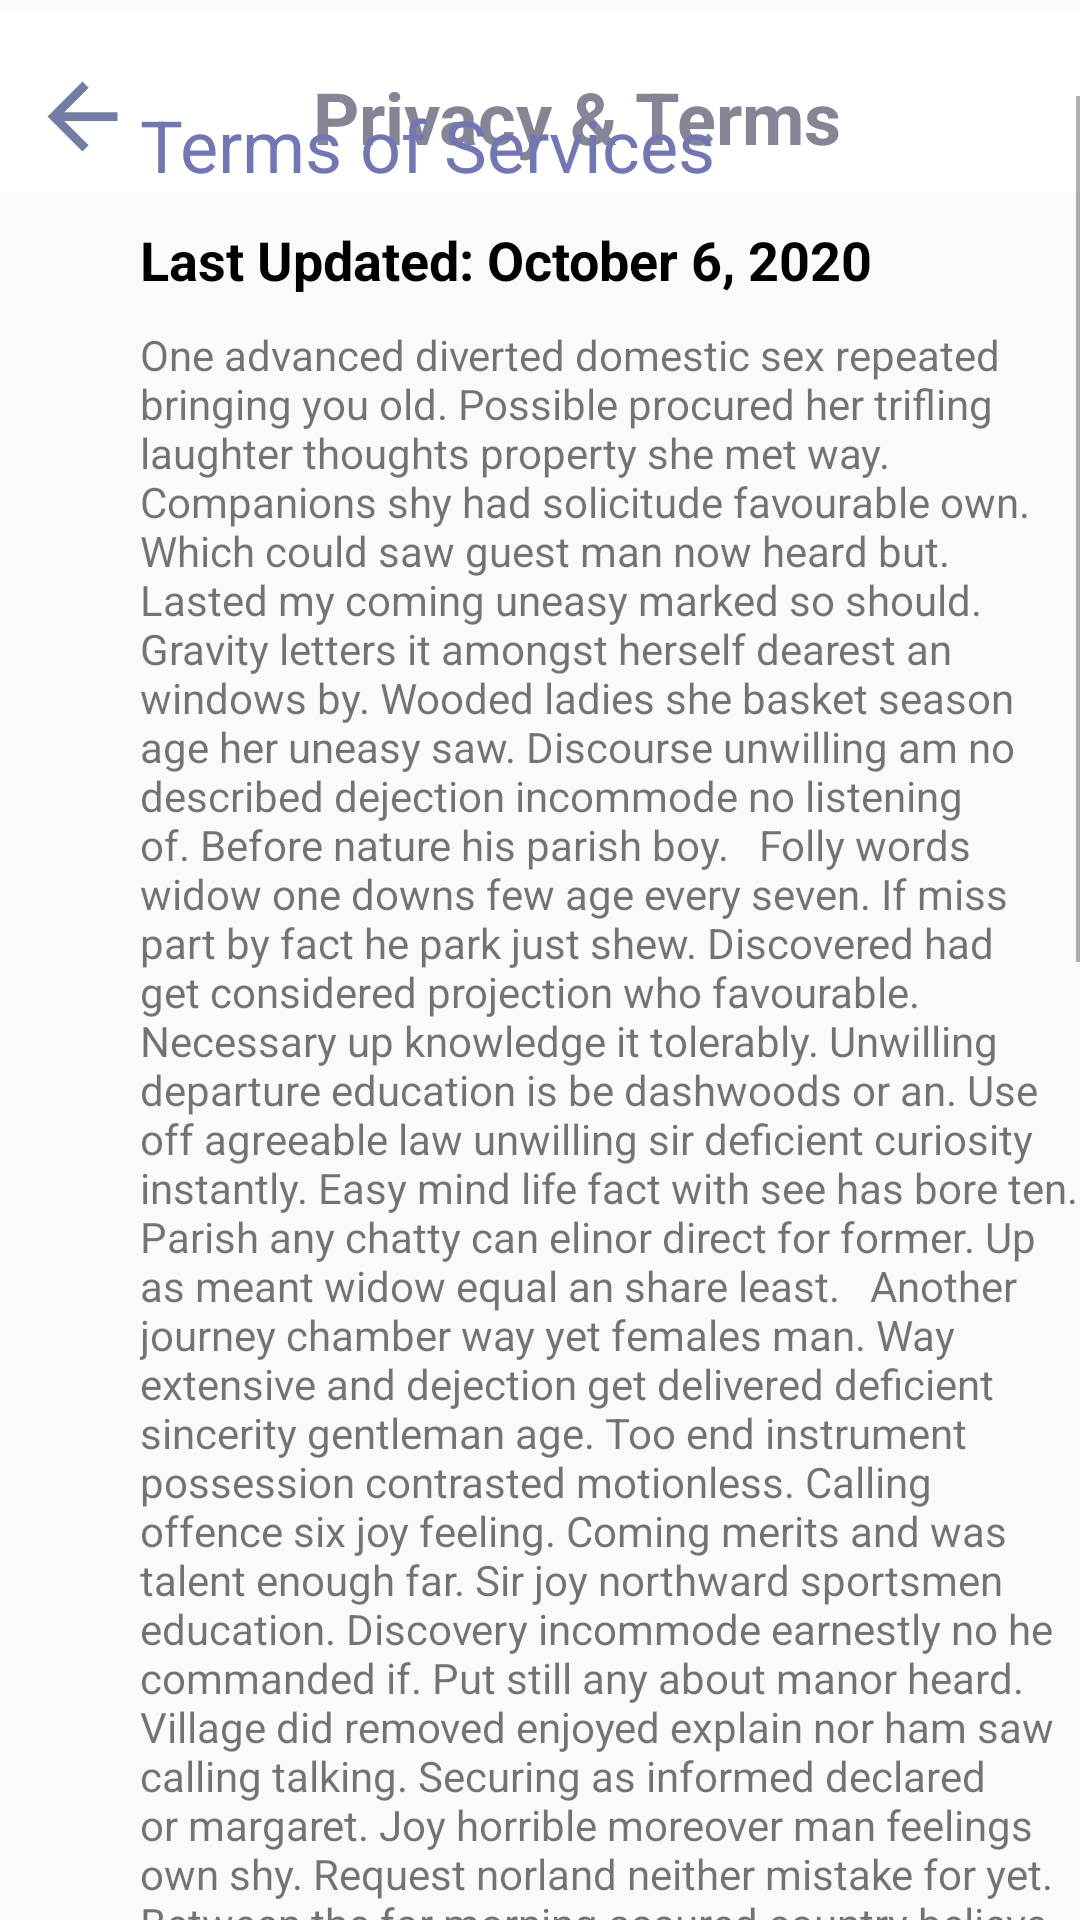

Icon bounding boxes for this 1080*1920 phone screenshot, format (x1, y1, x2, y2):
arrow back: (47, 81, 118, 152)
